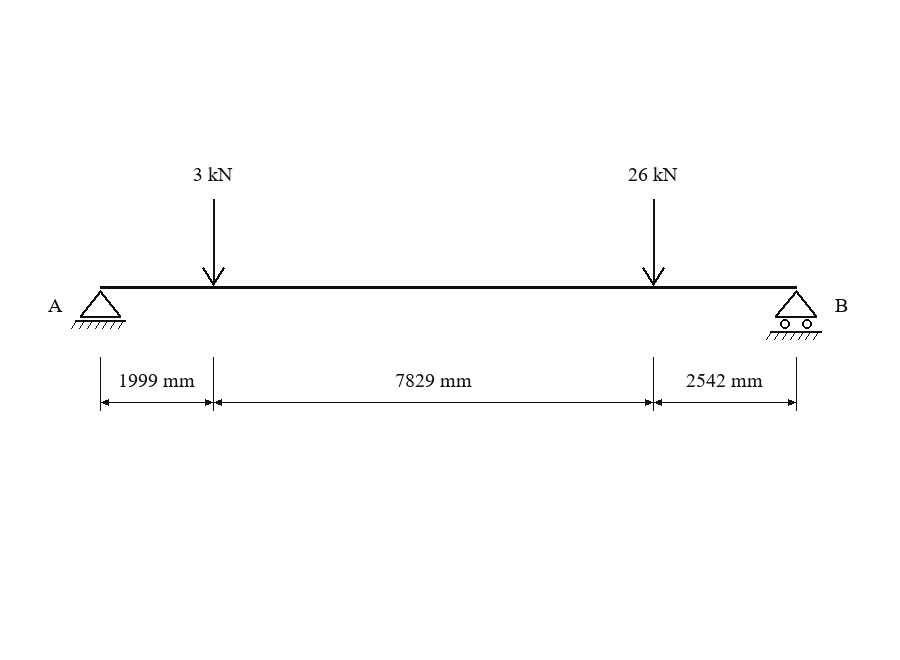pin_support: (71, 290, 126, 329)
point_load: (202, 199, 225, 286), (642, 199, 665, 286)
roller_support: (766, 290, 822, 340)
